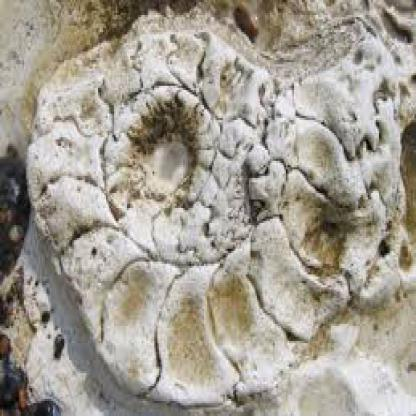Sedimentary_Chalk: (104, 43, 368, 362)
